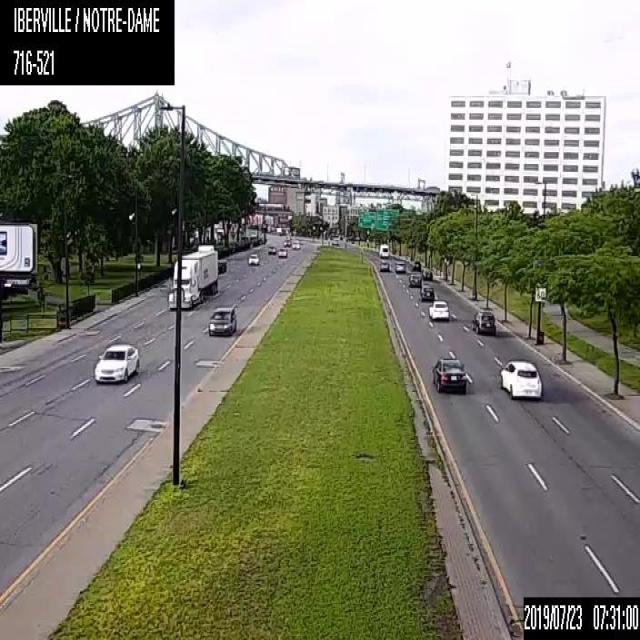bus: (378, 243, 389, 257)
vehicle: (168, 243, 218, 309), (92, 340, 138, 383), (496, 358, 542, 398), (431, 356, 466, 393), (208, 304, 236, 336), (470, 307, 496, 333), (428, 300, 449, 320), (420, 284, 433, 301), (408, 272, 422, 287), (393, 257, 406, 272), (421, 268, 432, 280), (247, 252, 258, 264), (379, 258, 389, 271), (217, 259, 226, 273), (291, 239, 300, 249), (412, 260, 421, 270), (278, 248, 286, 258), (283, 236, 291, 246), (268, 244, 276, 253), (331, 238, 339, 245)
